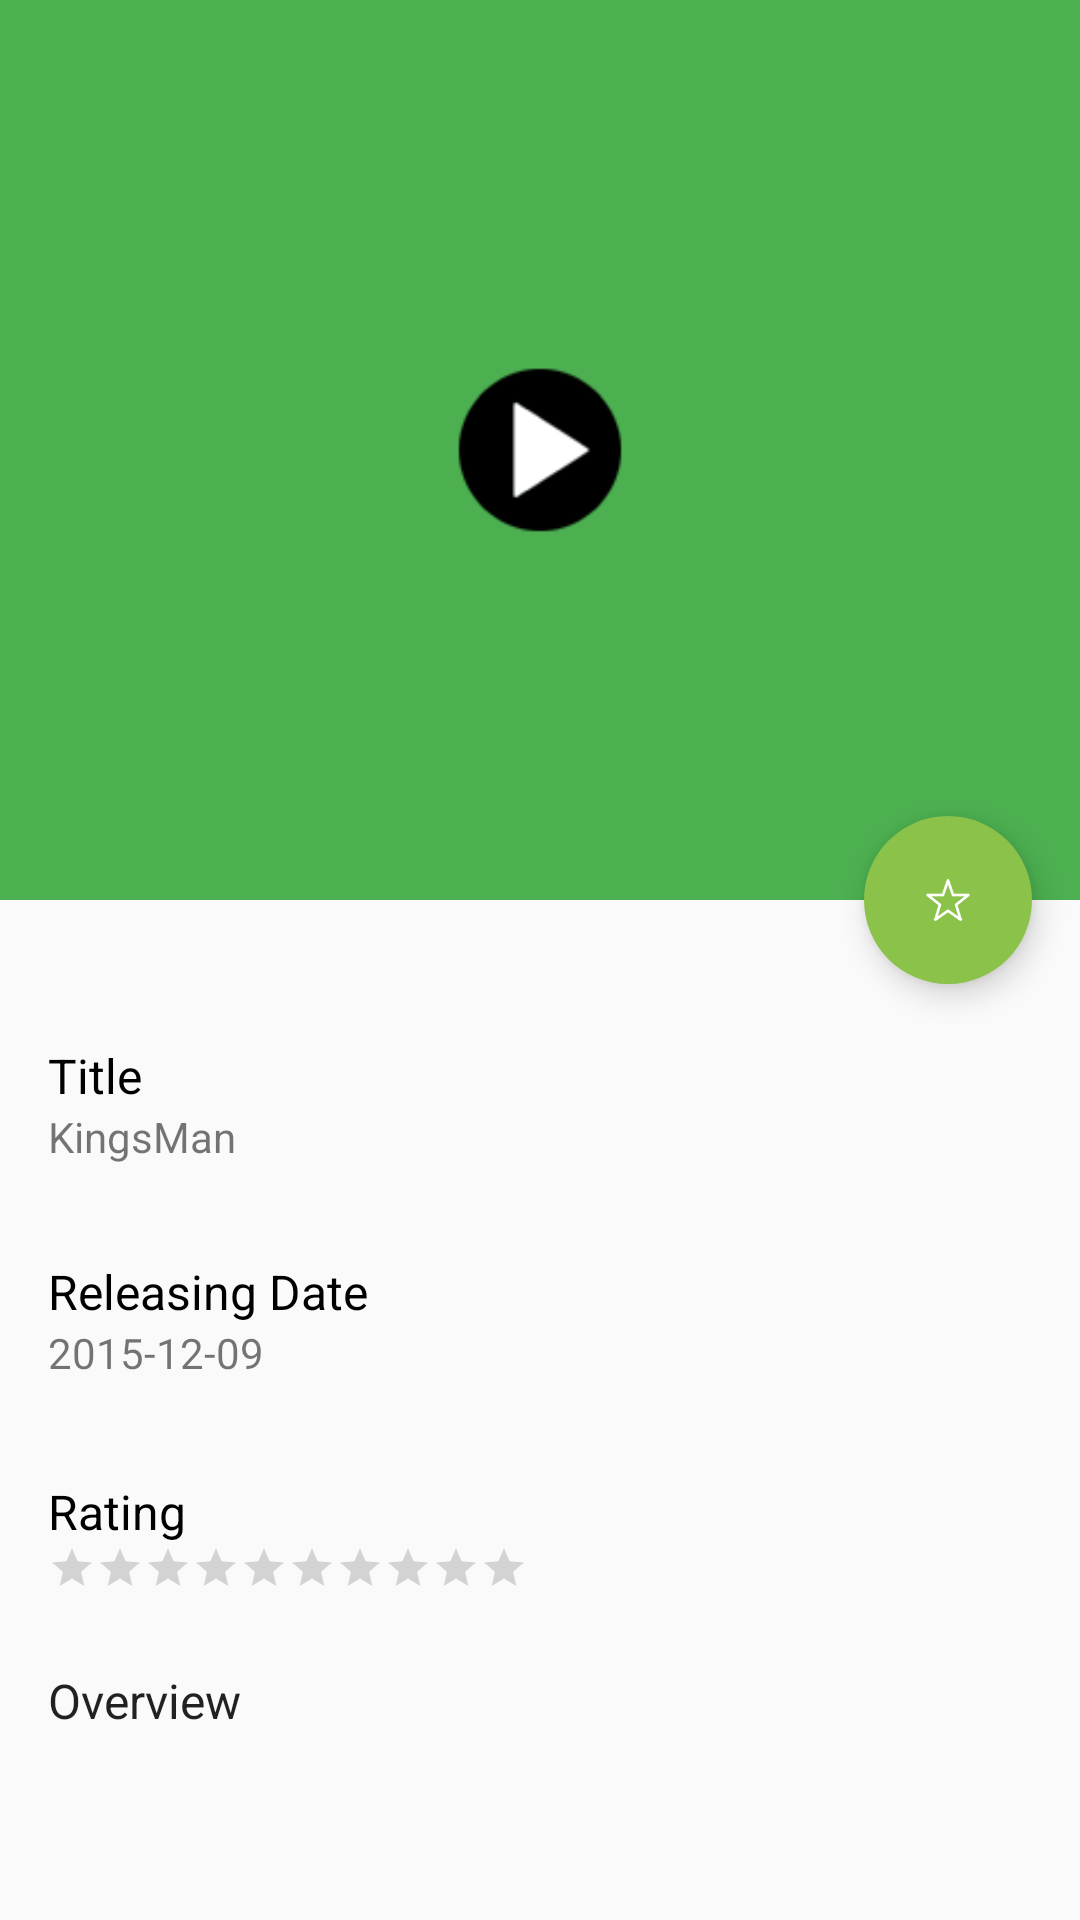

Where to tap for icons on this 1080x1920 app screen, as [x,y]:
play: [540,450]
